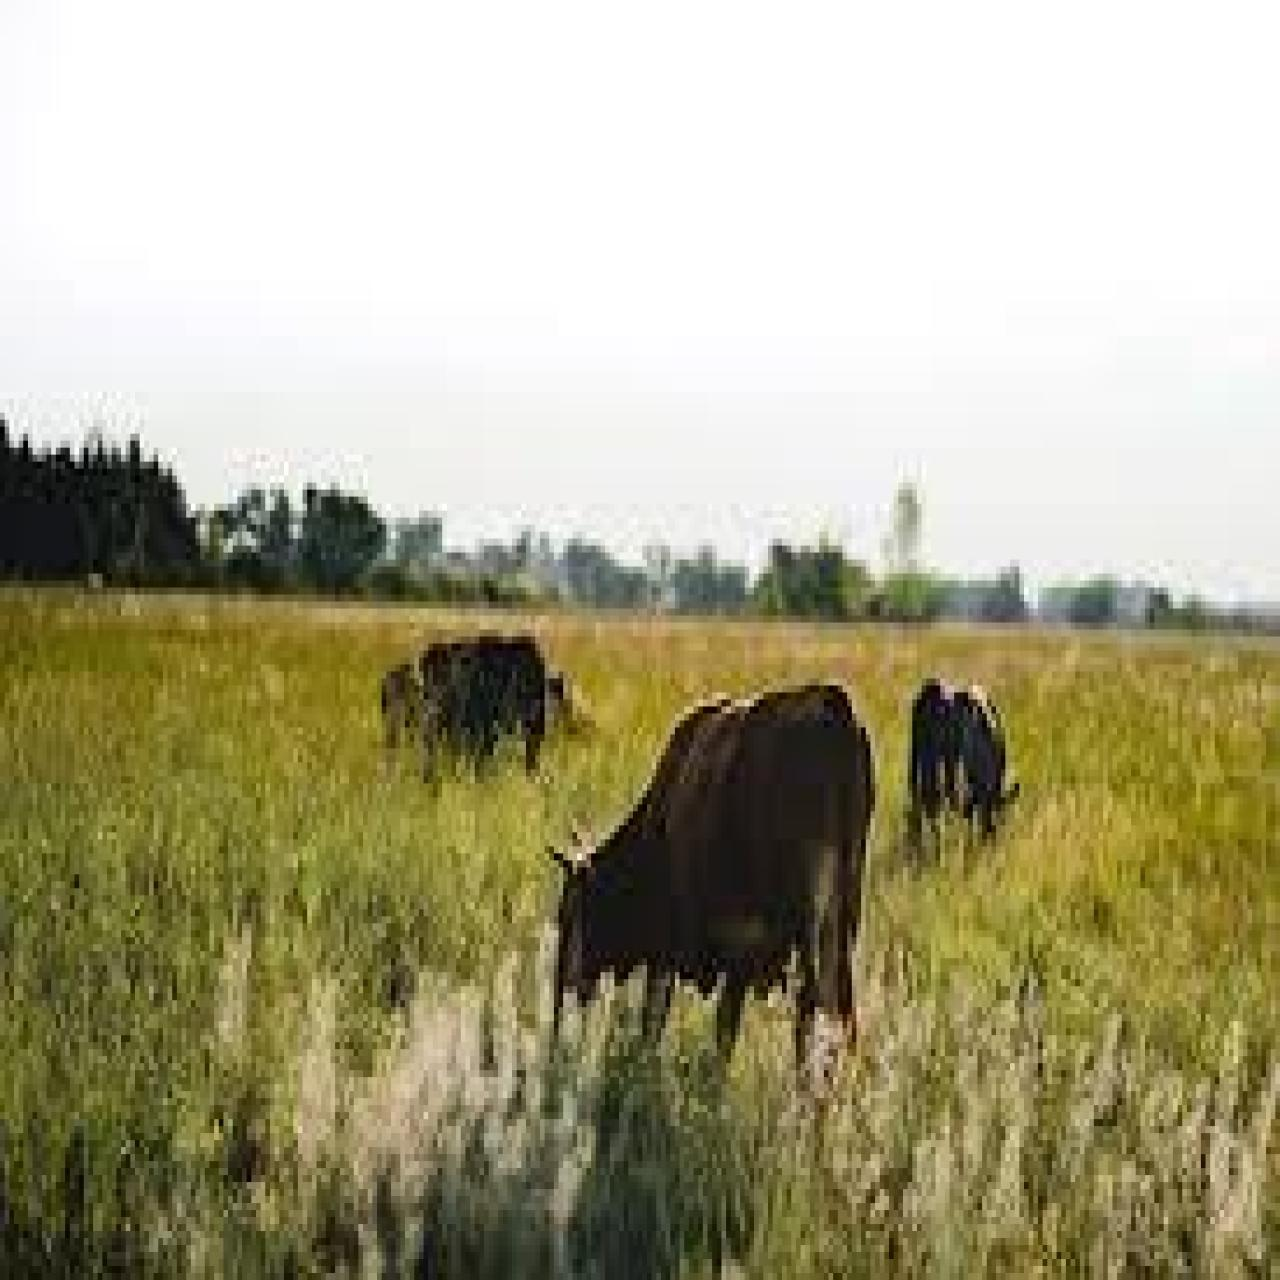cow: (543, 682, 878, 1074), (421, 636, 584, 783), (900, 675, 1021, 850), (380, 658, 422, 756)
